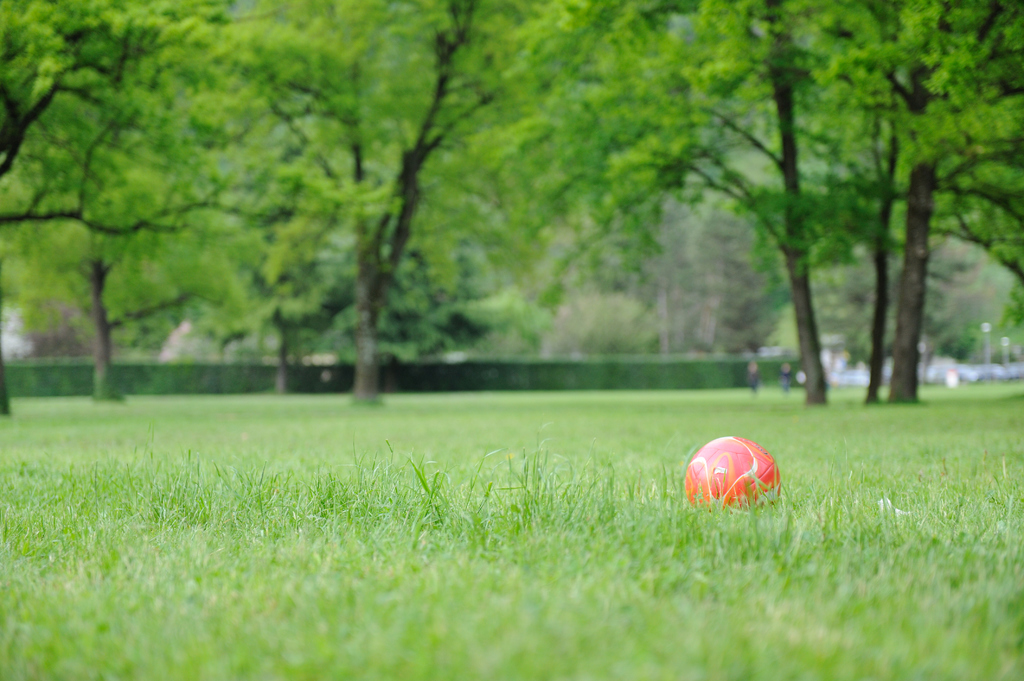Ball: (687, 438, 780, 508)
